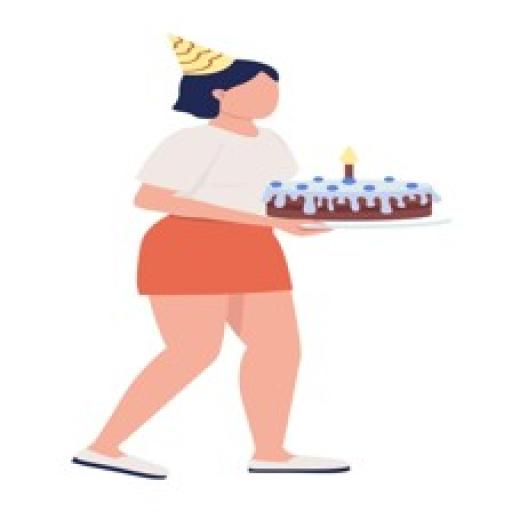human: (69, 28, 359, 486)
